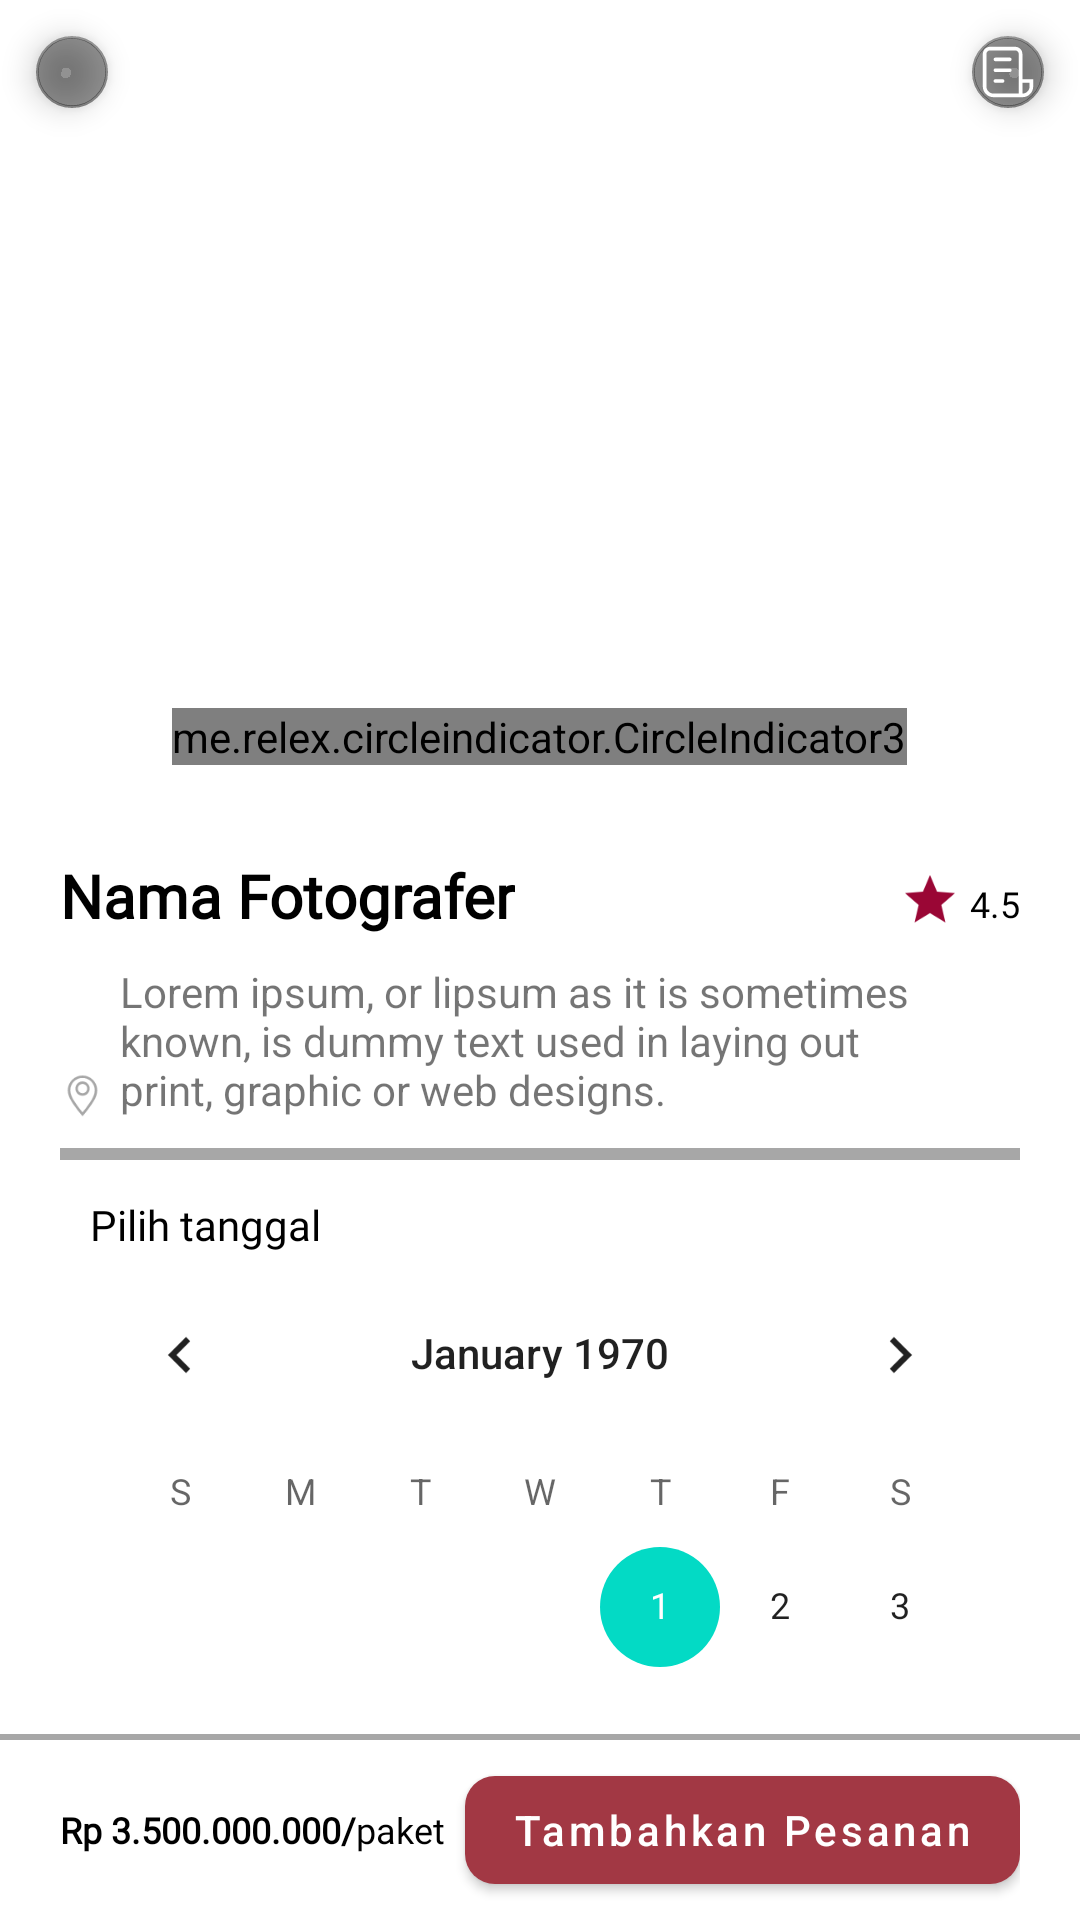

Icon click points for this 1080px×1920px phone screenshot, format point (x, y):
map marker: point (82, 1095)
star: point (930, 899)
